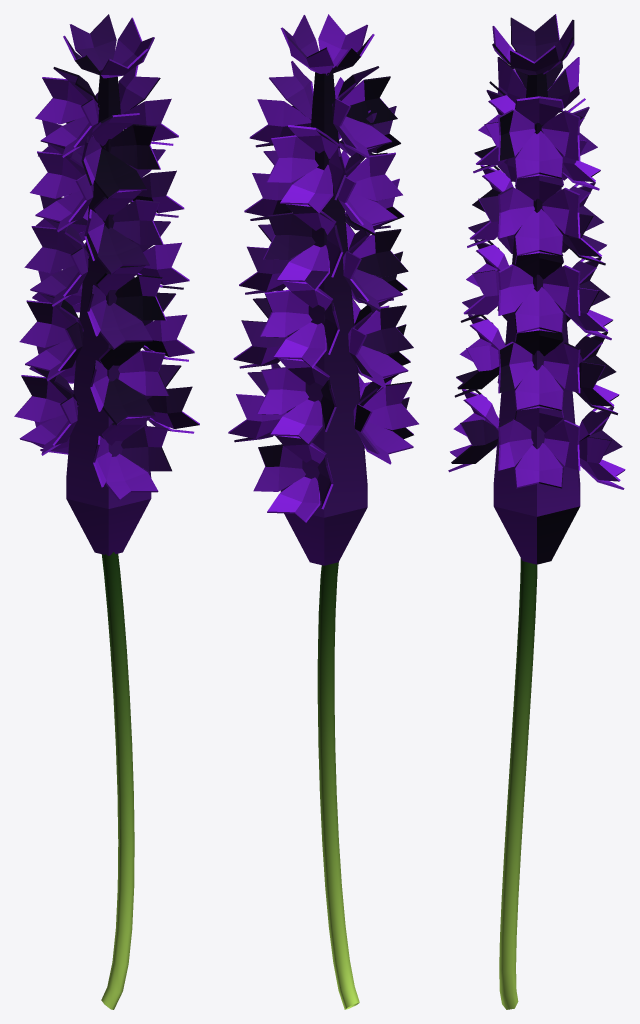
File: Flower01A.fbx
3 renders of one model, left to right at view 1: azimuth 30°, elevation 25°; view 2: azimuth 150°, elevation 25°; view 3: azimuth 270°, elevation 25°, orthographic. The views are drawn at different scales.
Visible parts, largest first — view 1: Flower01_LOD0; view 2: Flower01_LOD0; view 3: Flower01_LOD0.
Boxes of the visible parts, x1=… form: Flower01_LOD0: x1=14, y1=14, x2=199, y2=1009; Flower01_LOD0: x1=228, y1=14, x2=418, y2=1009; Flower01_LOD0: x1=448, y1=14, x2=625, y2=1009.
Size of what is drawn, in the model's own units: 22.53 by 136 by 22.13.
